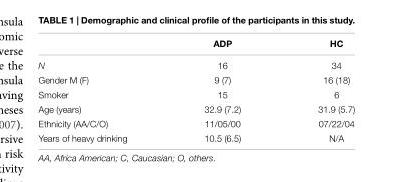table: (37, 37, 354, 142)
table column: (37, 37, 164, 142), (164, 37, 278, 142), (278, 37, 354, 142)
table column header: (37, 37, 354, 53)
table row: (37, 53, 354, 71), (37, 37, 354, 53), (37, 71, 354, 86), (37, 86, 354, 101), (37, 115, 354, 130), (37, 101, 354, 115), (37, 130, 354, 142)
